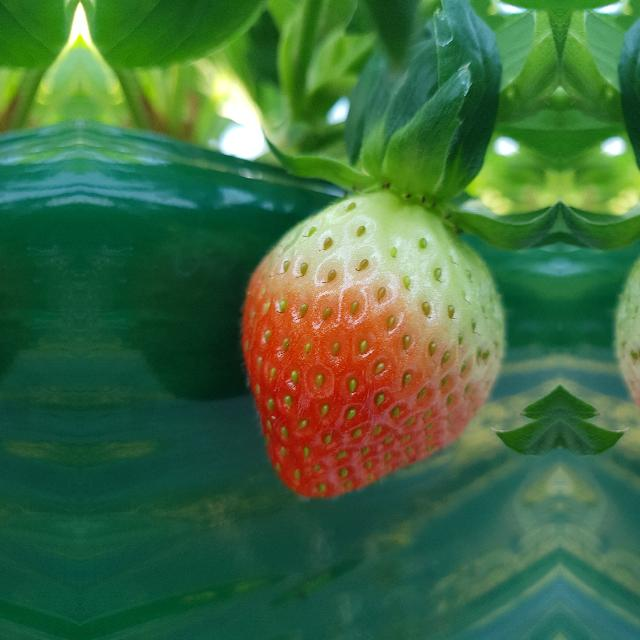Health_75: (240, 190, 506, 500)
